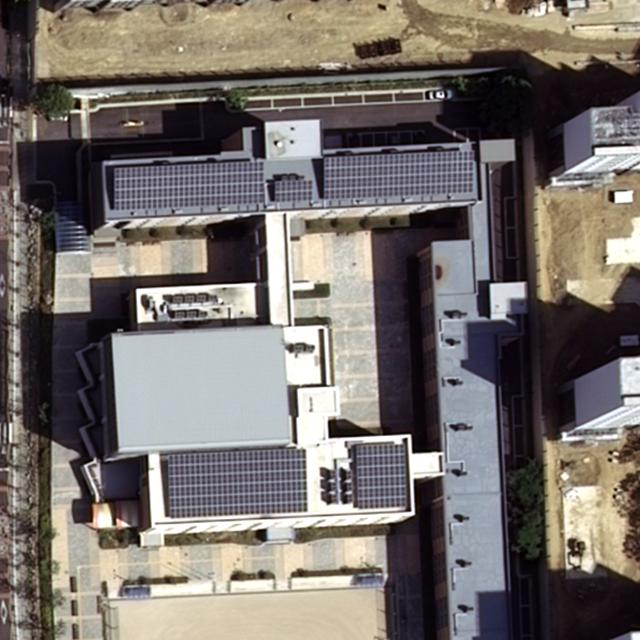panel: (166, 445, 308, 516), (110, 161, 267, 208), (317, 155, 476, 199), (352, 442, 413, 509)
